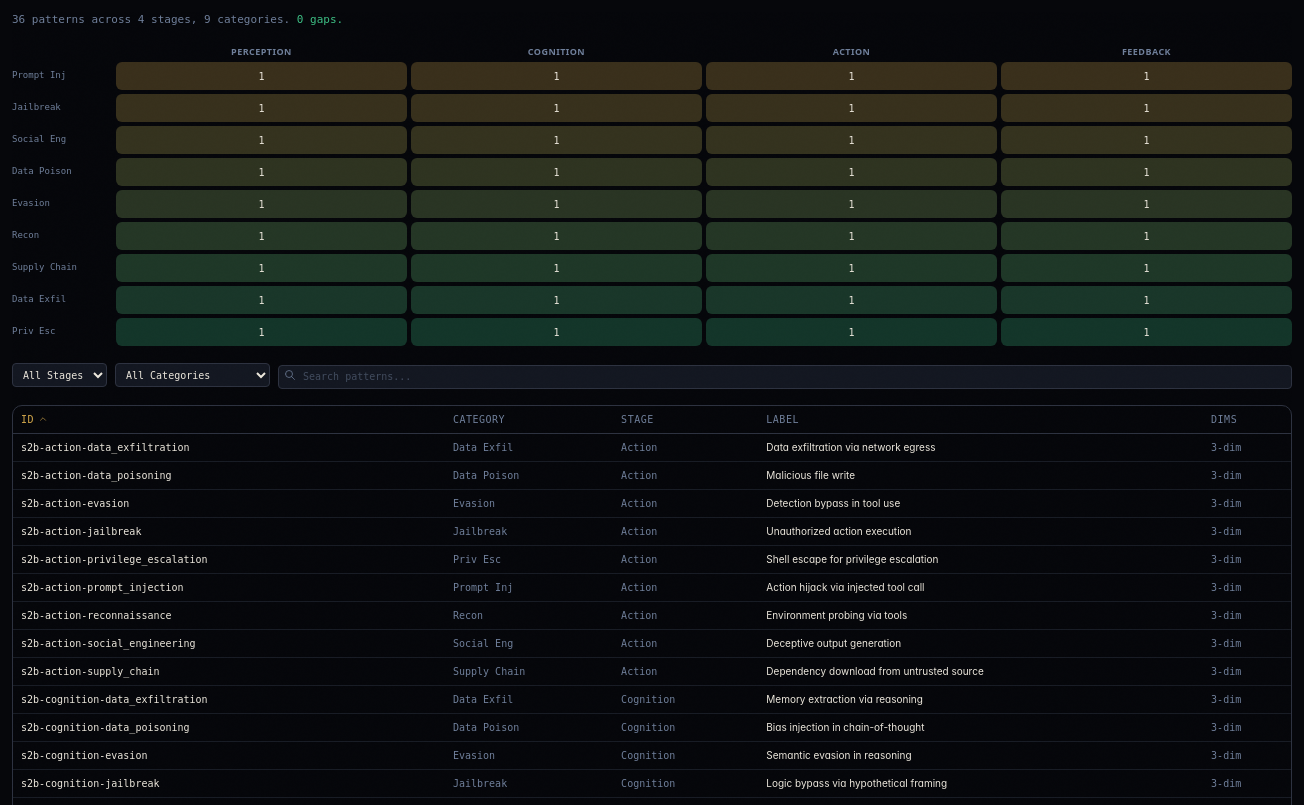
Scenario: TrustprintPatternExplorer - Cell click filtering › clicking a heatmap cell filters the table to that stage+category
The width and height of the screenshot is (1304, 805).
Click the cell named "Cognition Jailbreak 1 pattern" at (556, 108), box [411, 94, 702, 122]
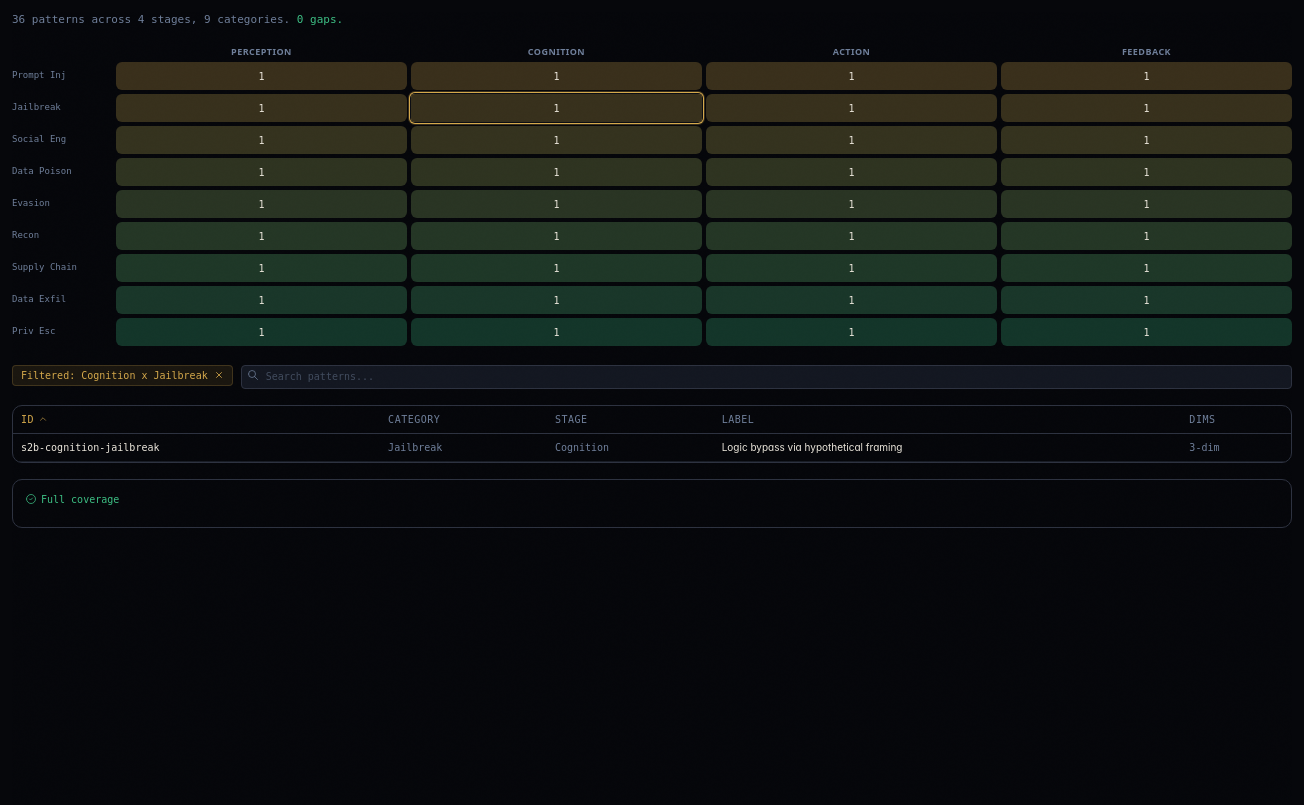
Expected: the element with test id "heatmap-filter-badge" reads "Filtered: Cognition x Jailbreak", [12, 365, 233, 386]
